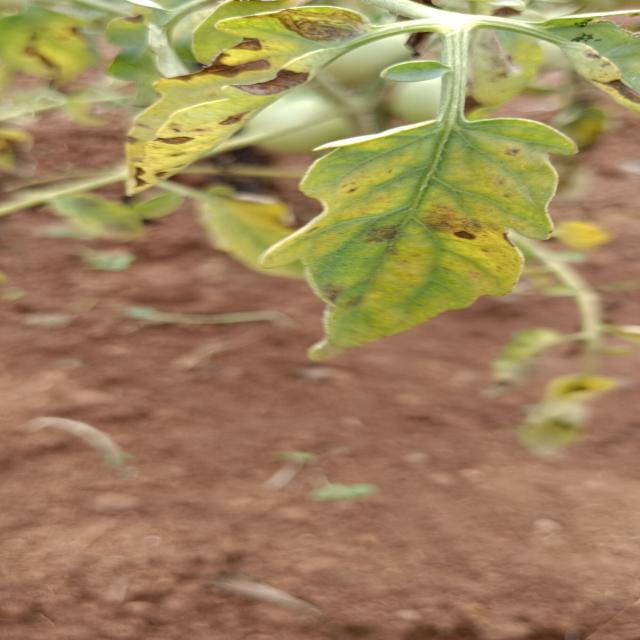tomato_early blight: (263, 103, 575, 359), (125, 5, 413, 191)
